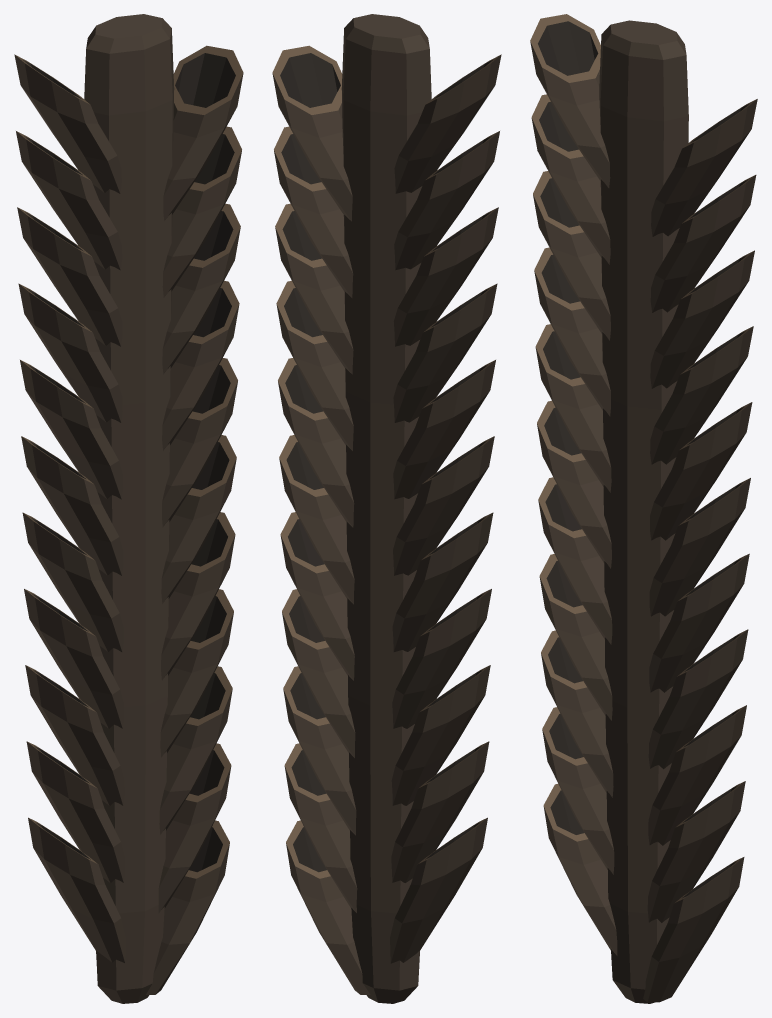
3 views of the same model, side by side, from view 1: azimuth 30°, elevation 25°; view 2: azimuth 150°, elevation 25°; view 3: azimuth 330°, elevation 25° (orthographic).
Parts seen in each view (by area): view 1: alternating-overlapping-tubular-thecae, quiet-central-housing-completed-ends; view 2: alternating-overlapping-tubular-thecae, quiet-central-housing-completed-ends; view 3: alternating-overlapping-tubular-thecae, quiet-central-housing-completed-ends.
Boxes of the visible parts, x1,y1,x2,y2 form: alternating-overlapping-tubular-thecae: (14, 45, 243, 994); quiet-central-housing-completed-ends: (84, 14, 174, 1003); alternating-overlapping-tubular-thecae: (272, 45, 501, 994); quiet-central-housing-completed-ends: (341, 14, 431, 1003); alternating-overlapping-tubular-thecae: (530, 14, 757, 1002); quiet-central-housing-completed-ends: (599, 20, 688, 1003).
Bounding box in the file's own units: 0.018 × 0.08 × 0.0078.
